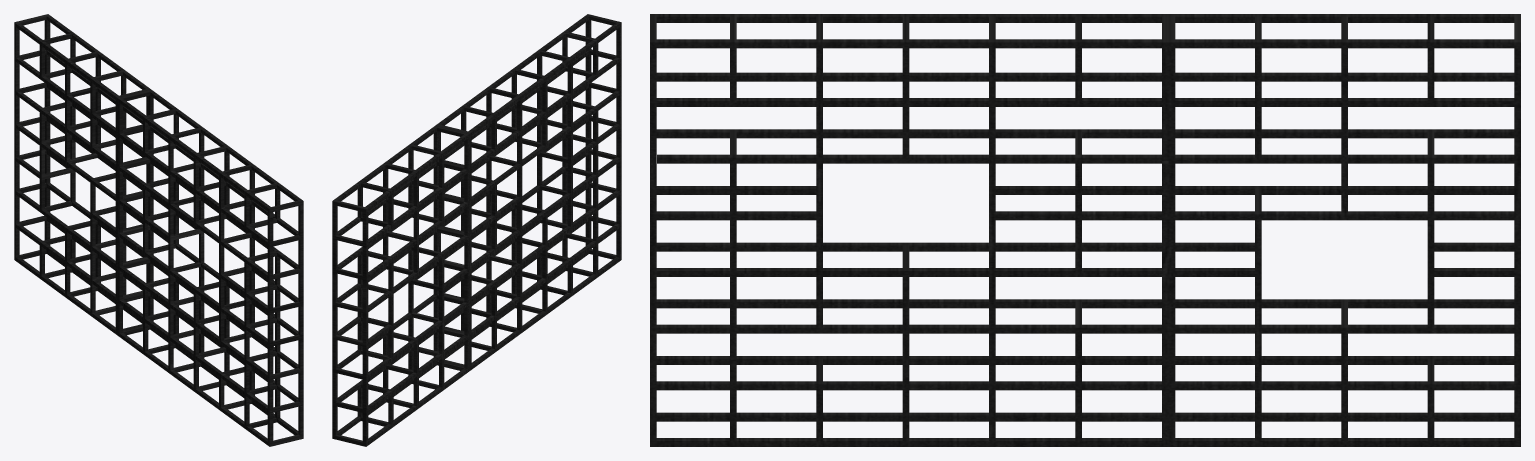
File: shelf2.obj
3 renders of one model, left to right at view 1: azimuth 30°, elevation 25°; view 2: azimuth 150°, elevation 25°; view 3: azimuth 270°, elevation 25°, orthographic. The views are drawn at different scales.
Parts seen in each view (by area): view 1: modelPanel4ViewSelectedSet group62 _Shelf:pCube2, modelPanel4ViewSelectedSet group62 _Shelf:pCube1, modelPanel4ViewSelectedSet group62 _Shelf:pCube4, modelPanel4ViewSelectedSet group62 _Shelf:pCube306, modelPanel4ViewSelectedSet group62 _Shelf:pCube302, modelPanel4ViewSelectedSet group62 _Shelf:pCube294, modelPanel4ViewSelectedSet group62 _Shelf:pCube296, modelPanel4ViewSelectedSet group62 _Shelf:pCube298, modelPanel4ViewSelectedSet group62 _Shelf:pCube291, modelPanel4ViewSelectedSet group62 _Shelf:pCube304, modelPanel4ViewSelectedSet group62 _Shelf:pCube305, modelPanel4ViewSelectedSet group62 _Shelf:pCube3 (+22 smaller); view 2: modelPanel4ViewSelectedSet group62 _Shelf:pCube4, modelPanel4ViewSelectedSet group62 _Shelf:pCube3, modelPanel4ViewSelectedSet group62 _Shelf:pCube2, modelPanel4ViewSelectedSet group62 _Shelf:pCube306, modelPanel4ViewSelectedSet group62 _Shelf:pCube302, modelPanel4ViewSelectedSet group62 _Shelf:pCube296, modelPanel4ViewSelectedSet group62 _Shelf:pCube294, modelPanel4ViewSelectedSet group62 _Shelf:pCube298, modelPanel4ViewSelectedSet group62 _Shelf:pCube291, modelPanel4ViewSelectedSet group62 _Shelf:pCube304, modelPanel4ViewSelectedSet group62 _Shelf:pCube305, modelPanel4ViewSelectedSet group62 _Shelf:pCube1 (+22 smaller); view 3: modelPanel4ViewSelectedSet group62 _Shelf:pCube305, modelPanel4ViewSelectedSet group62 _Shelf:pCube293, modelPanel4ViewSelectedSet group62 _Shelf:pCube295, modelPanel4ViewSelectedSet group62 _Shelf:pCube301, modelPanel4ViewSelectedSet group62 _Shelf:pCube302, modelPanel4ViewSelectedSet group62 _Shelf:pCube298, modelPanel4ViewSelectedSet group62 _Shelf:pCube296, modelPanel4ViewSelectedSet group62 _Shelf:pCube291, modelPanel4ViewSelectedSet group62 _Shelf:pCube304, modelPanel4ViewSelectedSet group62 _Shelf:pCube297, modelPanel4ViewSelectedSet group62 _Shelf:pCube303, modelPanel4ViewSelectedSet group62 _Shelf:pCube292 (+22 smaller).
Part boxes in pixels (<box>): modelPanel4ViewSelectedSet group62 _Shelf:pCube2: <box>267,207,273,446</box>; modelPanel4ViewSelectedSet group62 _Shelf:pCube1: <box>298,199,303,439</box>; modelPanel4ViewSelectedSet group62 _Shelf:pCube4: <box>14,21,19,260</box>; modelPanel4ViewSelectedSet group62 _Shelf:pCube306: <box>117,97,270,210</box>; modelPanel4ViewSelectedSet group62 _Shelf:pCube302: <box>117,166,267,278</box>; modelPanel4ViewSelectedSet group62 _Shelf:pCube294: <box>117,299,267,411</box>; modelPanel4ViewSelectedSet group62 _Shelf:pCube296: <box>117,266,267,378</box>; modelPanel4ViewSelectedSet group62 _Shelf:pCube298: <box>117,232,267,345</box>; modelPanel4ViewSelectedSet group62 _Shelf:pCube291: <box>117,332,267,444</box>; modelPanel4ViewSelectedSet group62 _Shelf:pCube304: <box>117,133,267,245</box>; modelPanel4ViewSelectedSet group62 _Shelf:pCube305: <box>148,89,301,201</box>; modelPanel4ViewSelectedSet group62 _Shelf:pCube3: <box>44,14,50,245</box>; modelPanel4ViewSelectedSet group62 _Shelf:pCube4: <box>362,207,368,446</box>; modelPanel4ViewSelectedSet group62 _Shelf:pCube3: <box>332,199,337,439</box>; modelPanel4ViewSelectedSet group62 _Shelf:pCube2: <box>616,21,621,260</box>; modelPanel4ViewSelectedSet group62 _Shelf:pCube306: <box>466,23,619,136</box>; modelPanel4ViewSelectedSet group62 _Shelf:pCube302: <box>469,90,619,204</box>; modelPanel4ViewSelectedSet group62 _Shelf:pCube296: <box>469,190,619,304</box>; modelPanel4ViewSelectedSet group62 _Shelf:pCube294: <box>469,223,619,337</box>; modelPanel4ViewSelectedSet group62 _Shelf:pCube298: <box>469,157,619,270</box>; modelPanel4ViewSelectedSet group62 _Shelf:pCube291: <box>469,257,619,370</box>; modelPanel4ViewSelectedSet group62 _Shelf:pCube304: <box>469,57,619,171</box>; modelPanel4ViewSelectedSet group62 _Shelf:pCube305: <box>436,15,589,125</box>; modelPanel4ViewSelectedSet group62 _Shelf:pCube1: <box>585,14,591,245</box>; modelPanel4ViewSelectedSet group62 _Shelf:pCube305: <box>656,39,1168,48</box>; modelPanel4ViewSelectedSet group62 _Shelf:pCube293: <box>656,381,1168,390</box>; modelPanel4ViewSelectedSet group62 _Shelf:pCube295: <box>656,324,1168,333</box>; modelPanel4ViewSelectedSet group62 _Shelf:pCube301: <box>657,154,1161,163</box>; modelPanel4ViewSelectedSet group62 _Shelf:pCube302: <box>656,129,1161,138</box>; modelPanel4ViewSelectedSet group62 _Shelf:pCube298: <box>656,242,1161,251</box>; modelPanel4ViewSelectedSet group62 _Shelf:pCube296: <box>656,299,1161,308</box>; modelPanel4ViewSelectedSet group62 _Shelf:pCube291: <box>656,412,1161,421</box>; modelPanel4ViewSelectedSet group62 _Shelf:pCube304: <box>656,72,1161,81</box>; modelPanel4ViewSelectedSet group62 _Shelf:pCube297: <box>656,268,1168,276</box>; modelPanel4ViewSelectedSet group62 _Shelf:pCube303: <box>656,98,1168,106</box>; modelPanel4ViewSelectedSet group62 _Shelf:pCube292: <box>656,438,1168,446</box>.
Bounding box in the file's own units: 30 × 200 × 390.
